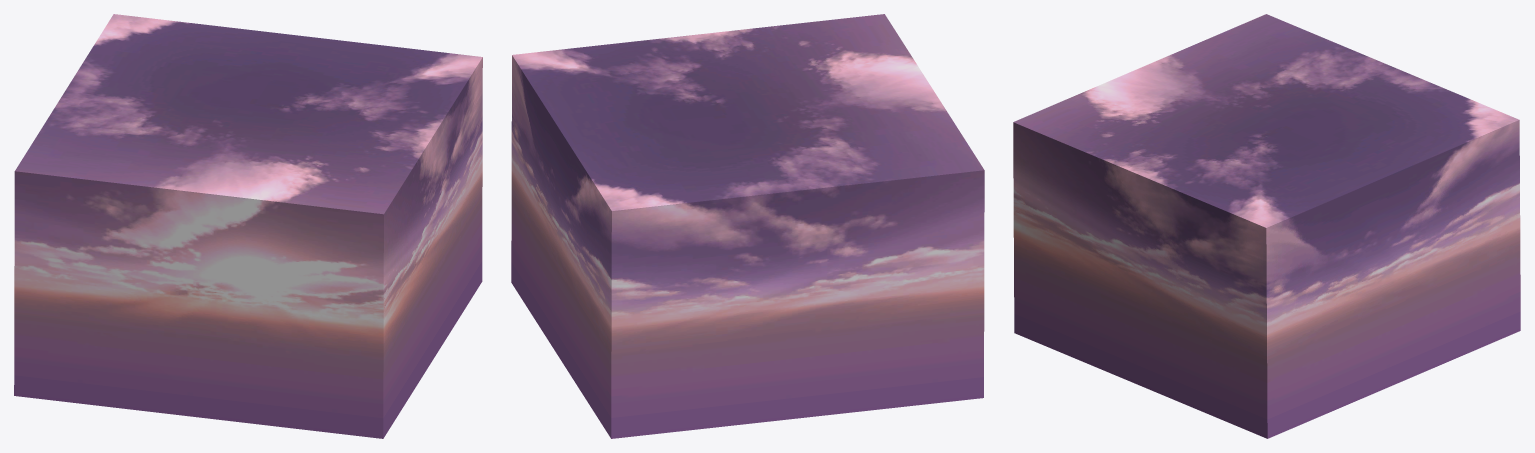
3 views of the same model, side by side, from view 1: azimuth 30°, elevation 25°; view 2: azimuth 150°, elevation 25°; view 3: azimuth 270°, elevation 25° (orthographic). The views are drawn at different scales.
Visible parts, largest first — view 1: CTR_Hot_Air_Skyway_SKP__Skybox, CTR_Hot_Air_Skyway_SKP__Skybox_Top; view 2: CTR_Hot_Air_Skyway_SKP__Skybox, CTR_Hot_Air_Skyway_SKP__Skybox_Top; view 3: CTR_Hot_Air_Skyway_SKP__Skybox, CTR_Hot_Air_Skyway_SKP__Skybox_Top.
Part boxes in pixels (x1,y1,x2,y2): CTR_Hot_Air_Skyway_SKP__Skybox: [14, 57, 482, 438]; CTR_Hot_Air_Skyway_SKP__Skybox_Top: [15, 14, 482, 214]; CTR_Hot_Air_Skyway_SKP__Skybox: [511, 55, 984, 438]; CTR_Hot_Air_Skyway_SKP__Skybox_Top: [512, 14, 984, 210]; CTR_Hot_Air_Skyway_SKP__Skybox: [1013, 120, 1520, 438]; CTR_Hot_Air_Skyway_SKP__Skybox_Top: [1013, 14, 1519, 227].
Size of the model in its own units: 528209 by 245451 by 529433.
24 materials, 24 textured.
